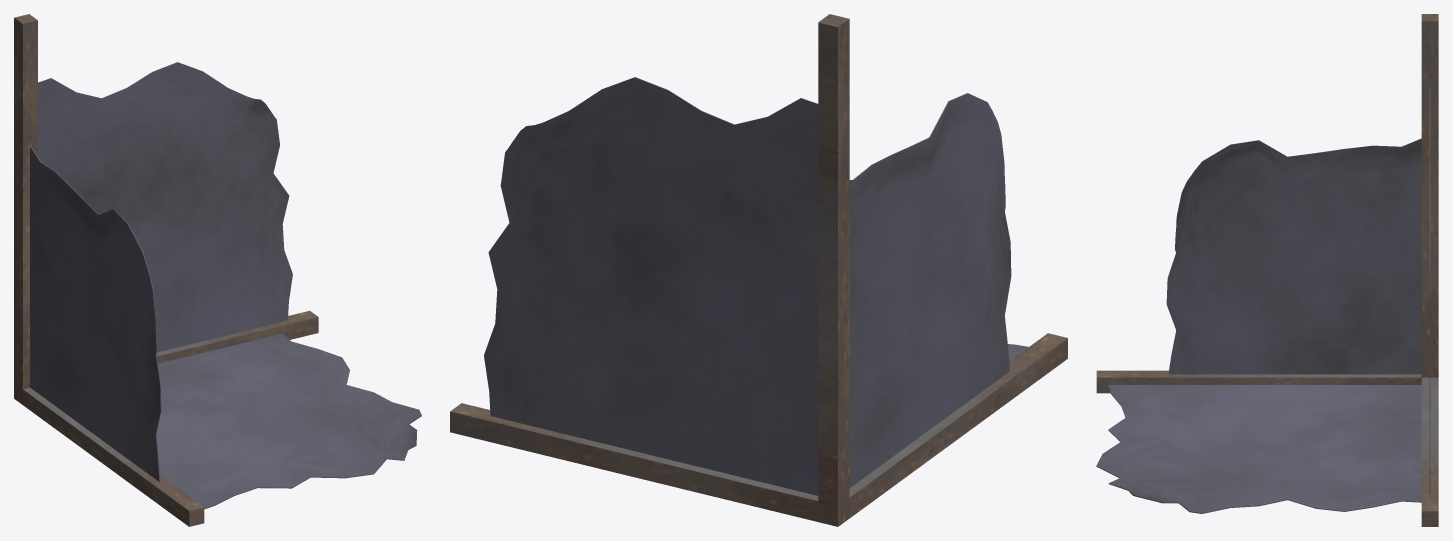
File: corner1.fbx
3 views of the same model, side by side, from view 1: azimuth 30°, elevation 25°; view 2: azimuth 150°, elevation 25°; view 3: azimuth 270°, elevation 25° (orthographic). The views are drawn at different scales.
Visible parts, largest first — view 1: pCube6, pCube4, pCube5, polySurface2; view 2: pCube6, pCube5, polySurface2; view 3: pCube5, pCube4, polySurface2, pCube6.
Boxes of the visible parts, x1,y1,x2,y2 form: pCube6: (38,62,292,352); pCube4: (156,333,421,509); pCube5: (30,146,161,482); polySurface2: (14,14,318,526); pCube6: (484,77,818,495); pCube5: (849,93,1011,487); polySurface2: (450,14,1067,526); pCube5: (1166,138,1421,374); pCube4: (1096,385,1421,513); polySurface2: (1096,14,1438,526); pCube6: (1429,87,1430,498).
Size of the model in its own units: 3.9 by 4.8 by 4.
